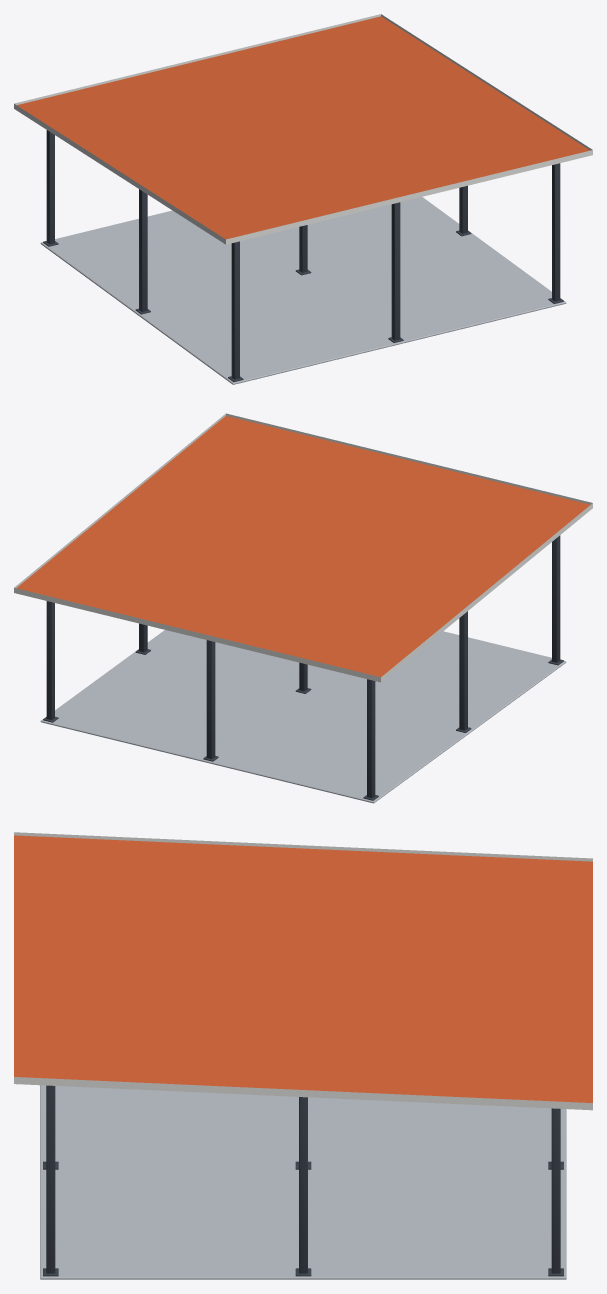
Rendered from telheiro_6x6m.glb.
The picture shows the model from 3 angles, top to bottom: view 1: azimuth 30°, elevation 25°; view 2: azimuth 150°, elevation 25°; view 3: azimuth 270°, elevation 25°; orthographic projection. The views are drawn at different scales.
Visible parts, largest first — view 1: telheiro_6x6m; view 2: telheiro_6x6m; view 3: telheiro_6x6m.
Boxes of the visible parts, x1=… form: telheiro_6x6m: x1=14, y1=14, x2=592, y2=384; telheiro_6x6m: x1=14, y1=413, x2=592, y2=803; telheiro_6x6m: x1=14, y1=832, x2=592, y2=1279.
Bounding box in the file's own units: 6.6 × 2.69 × 6.6.
Materials: 4 (1 with a texture image).
